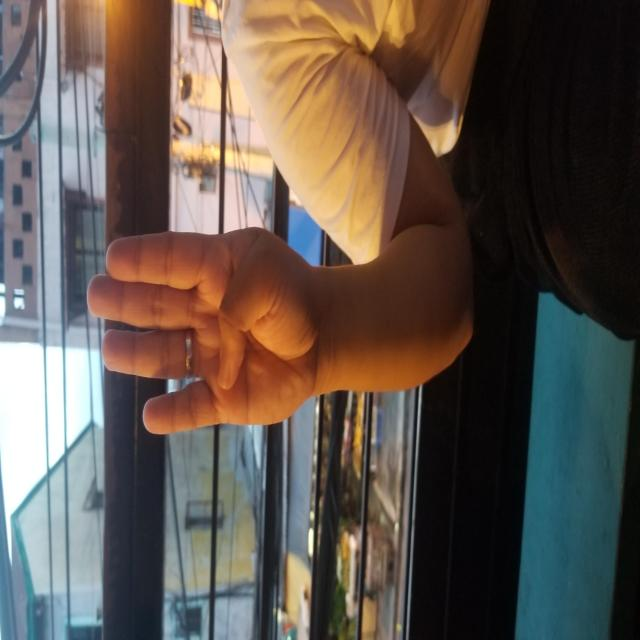B: (201, 86, 418, 317)
